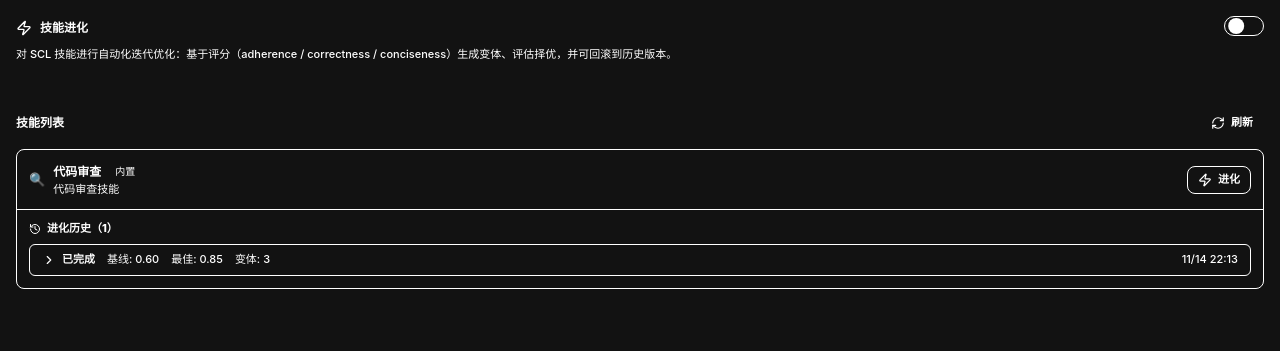
Test: SkillEvolutionSettings 组件 › 展开历史运行后加载版本并显示回滚按钮
This screenshot has width=1280, height=351.
Expected: the text "最佳: 0.85" is shown, [171,253,223,267]
 点击运行行展开
Click the button "已完成": x=68, y=260 [42,253,95,267]
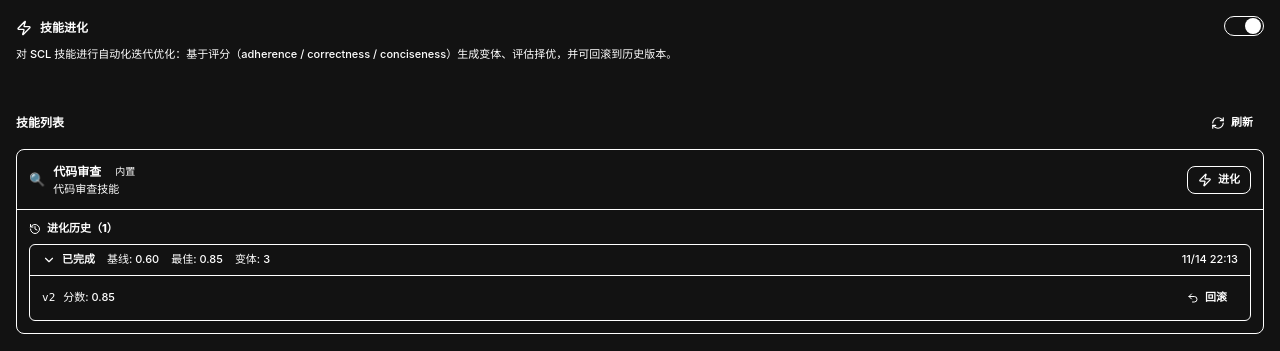
Expected: the button "回滚" is shown, [1176,284,1238,312]
